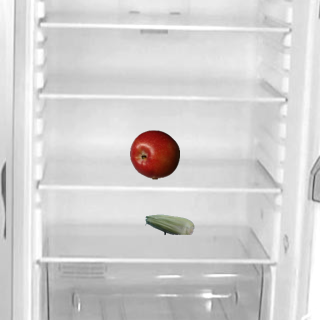Apple Braeburn: (129, 129, 179, 179)
Corn Husk: (144, 199, 194, 249)
